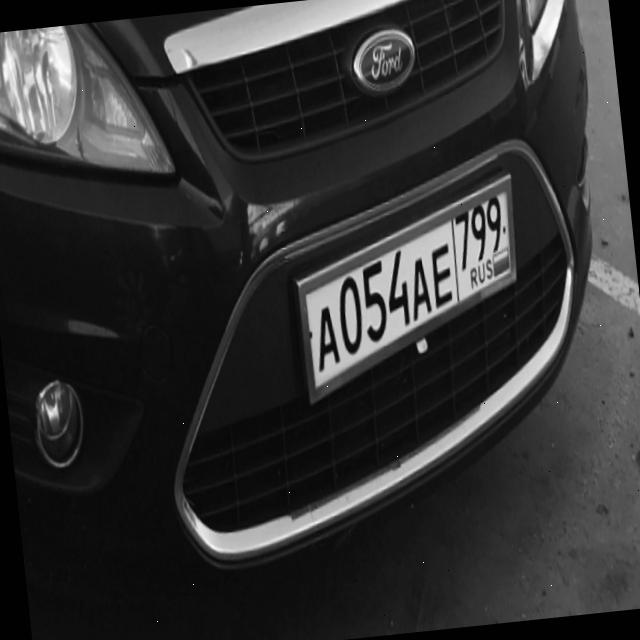number-plates: (282, 172, 534, 415)
